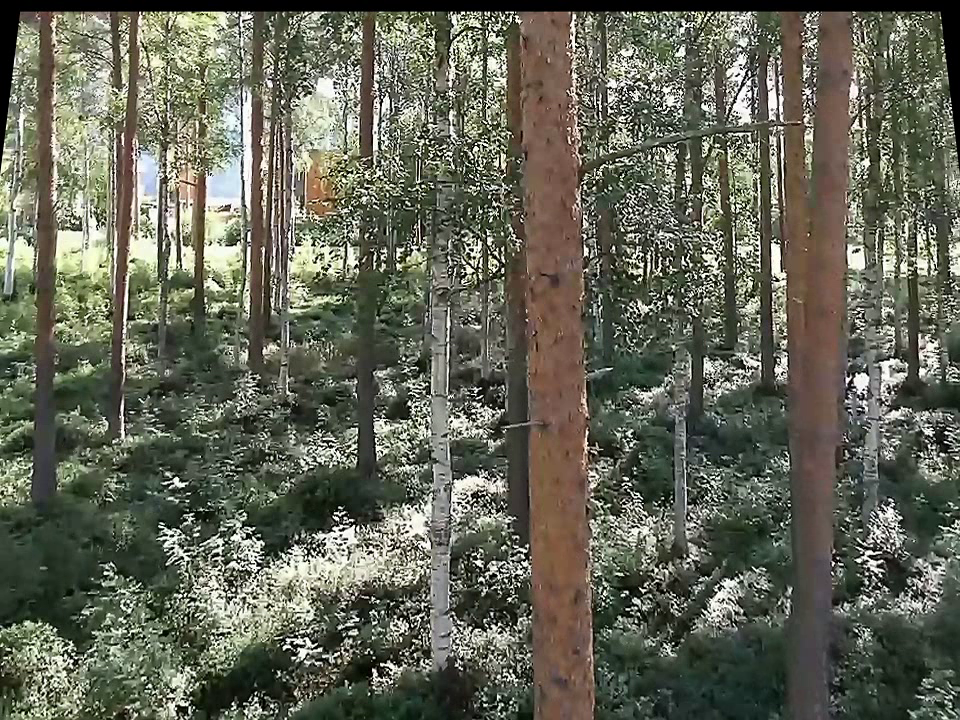branch: (583, 109, 806, 176)
trunk: (503, 23, 601, 712), (778, 17, 852, 716), (417, 48, 468, 670), (22, 11, 65, 510), (102, 15, 146, 437), (353, 24, 392, 475), (752, 45, 787, 398), (710, 61, 745, 359), (857, 191, 889, 493), (240, 22, 269, 348), (659, 344, 700, 553), (899, 220, 928, 392), (187, 151, 211, 307)
